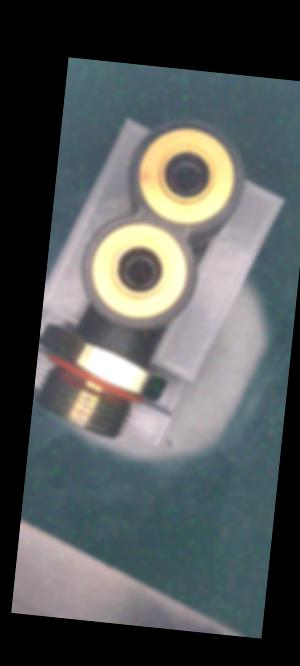craze: (102, 334, 119, 353)
